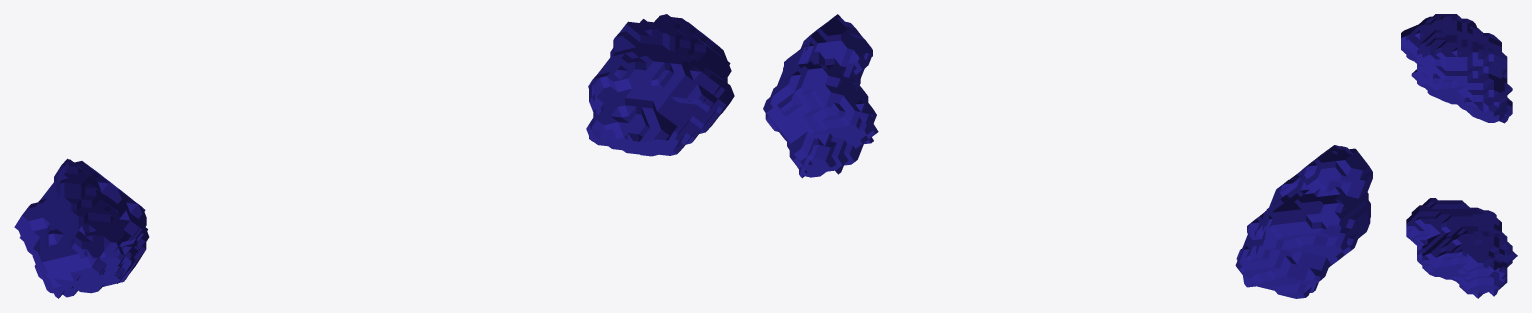
File: region_0140_T__tangential_nucleus_.glb
3 renders of one model, left to right at view 1: azimuth 30°, elevation 25°; view 2: azimuth 150°, elevation 25°; view 3: azimuth 270°, elevation 25°, orthographic. The views are drawn at different scales.
Visible parts, largest first — view 1: world; view 2: world; view 3: world.
Boxes of the visible parts, bbox=[...] form: world: bbox=[14, 14, 734, 298]; world: bbox=[763, 14, 1372, 298]; world: bbox=[1401, 14, 1517, 298].
Bounding box in the file's own units: 0.776 × 0.168 × 0.176.
